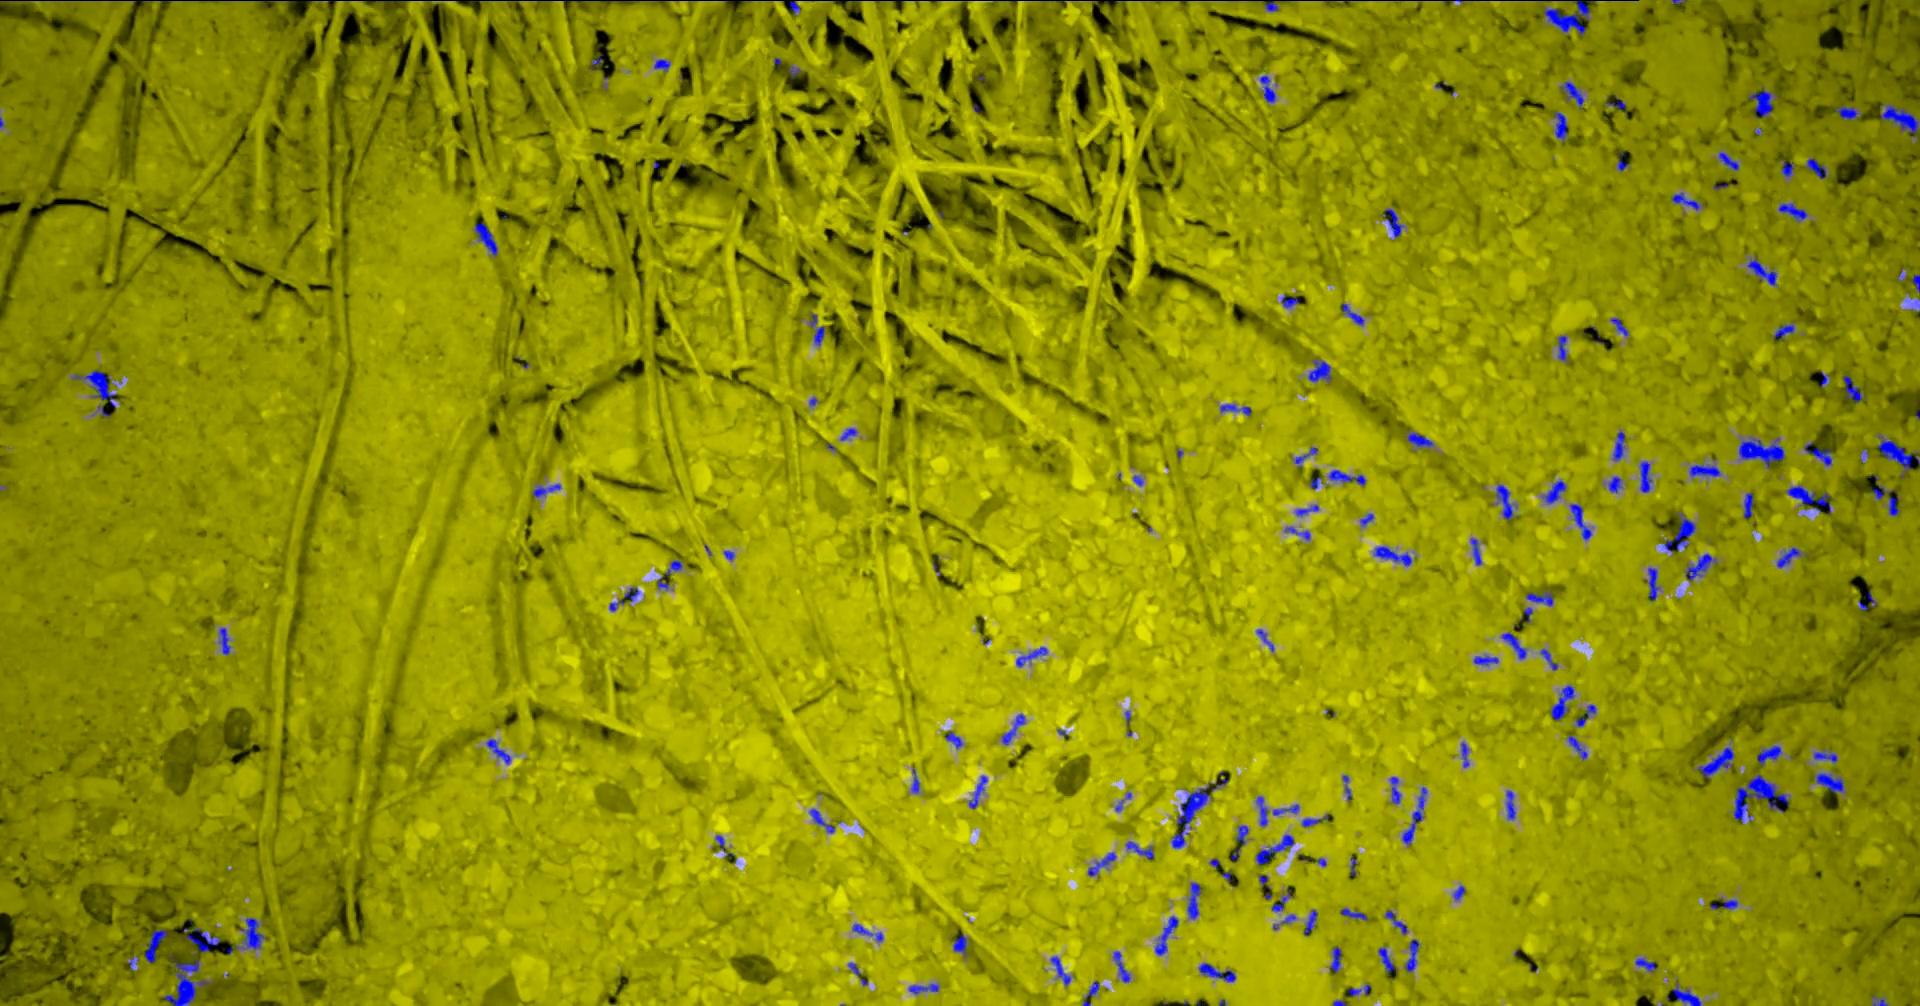ant: (1170, 771, 1227, 848), (1733, 774, 1788, 822), (163, 959, 210, 1005), (72, 370, 116, 408), (1543, 0, 1589, 36), (1877, 434, 1919, 471), (1401, 786, 1426, 843), (226, 917, 265, 954), (1738, 437, 1784, 467), (1662, 513, 1695, 551), (1879, 104, 1919, 136), (1785, 485, 1830, 513), (1697, 747, 1735, 779), (1255, 835, 1293, 864), (1154, 916, 1178, 955), (1550, 685, 1575, 720), (183, 927, 218, 951), (1685, 553, 1716, 580), (1747, 88, 1775, 117), (1747, 257, 1777, 285), (1870, 485, 1898, 514), (1495, 484, 1517, 520), (143, 929, 168, 962), (1570, 503, 1591, 540), (1373, 546, 1411, 567), (474, 222, 497, 255), (1001, 713, 1023, 744), (1197, 962, 1236, 981), (1501, 633, 1526, 659), (1803, 442, 1831, 466), (1382, 208, 1404, 238), (809, 808, 834, 833), (1559, 81, 1583, 108), (1087, 852, 1115, 875), (1015, 647, 1048, 666), (968, 775, 987, 808), (1777, 546, 1807, 567), (486, 738, 510, 763), (1328, 469, 1365, 485), (1672, 983, 1700, 1005), (1815, 772, 1843, 793), (1050, 956, 1070, 984), (1384, 909, 1407, 934), (852, 923, 883, 941), (1112, 951, 1130, 982), (1843, 373, 1862, 401), (1542, 480, 1564, 503), (1307, 359, 1331, 381), (1670, 192, 1699, 210), (1778, 203, 1807, 221), (1186, 882, 1200, 918), (809, 312, 824, 345), (1125, 841, 1153, 859), (1567, 735, 1587, 760), (1341, 304, 1363, 325), (1294, 447, 1317, 467), (1575, 704, 1595, 727), (1258, 74, 1275, 102), (1756, 746, 1780, 765), (1378, 948, 1396, 973), (1553, 111, 1567, 142), (1404, 939, 1418, 970), (1271, 889, 1291, 911), (1806, 158, 1826, 178), (1611, 431, 1625, 460), (1688, 464, 1719, 476), (1082, 981, 1098, 1005), (1647, 567, 1658, 601), (532, 483, 560, 497), (1219, 403, 1250, 415), (1256, 629, 1272, 652), (1835, 105, 1862, 119), (1525, 591, 1552, 605), (1718, 152, 1738, 170), (1773, 324, 1794, 340), (1540, 648, 1557, 669), (1407, 432, 1432, 446), (1284, 526, 1309, 540), (1340, 907, 1368, 920), (1303, 909, 1317, 935), (1639, 461, 1651, 492), (218, 627, 231, 654), (1302, 814, 1328, 827), (1256, 796, 1267, 826), (1261, 0, 1289, 11), (1813, 749, 1836, 763), (1610, 318, 1628, 335), (945, 730, 963, 748), (908, 983, 938, 993), (1389, 776, 1401, 803), (1272, 804, 1299, 815), (952, 934, 966, 955), (1330, 946, 1341, 972), (1636, 956, 1656, 970), (1470, 539, 1481, 565), (1506, 790, 1515, 821), (1710, 899, 1737, 909), (1606, 95, 1625, 109), (1295, 504, 1318, 516), (1347, 984, 1370, 996), (1473, 655, 1498, 666), (665, 560, 682, 575), (1281, 293, 1299, 307), (1743, 492, 1752, 518), (1460, 741, 1469, 767), (1342, 774, 1351, 800), (1608, 476, 1622, 493), (1236, 826, 1248, 843), (1617, 152, 1628, 171), (1557, 335, 1566, 359), (910, 768, 919, 793), (841, 427, 857, 439), (623, 587, 637, 601), (653, 58, 669, 70), (1782, 160, 1793, 177), (1453, 885, 1465, 899), (563, 0, 639, 1)
